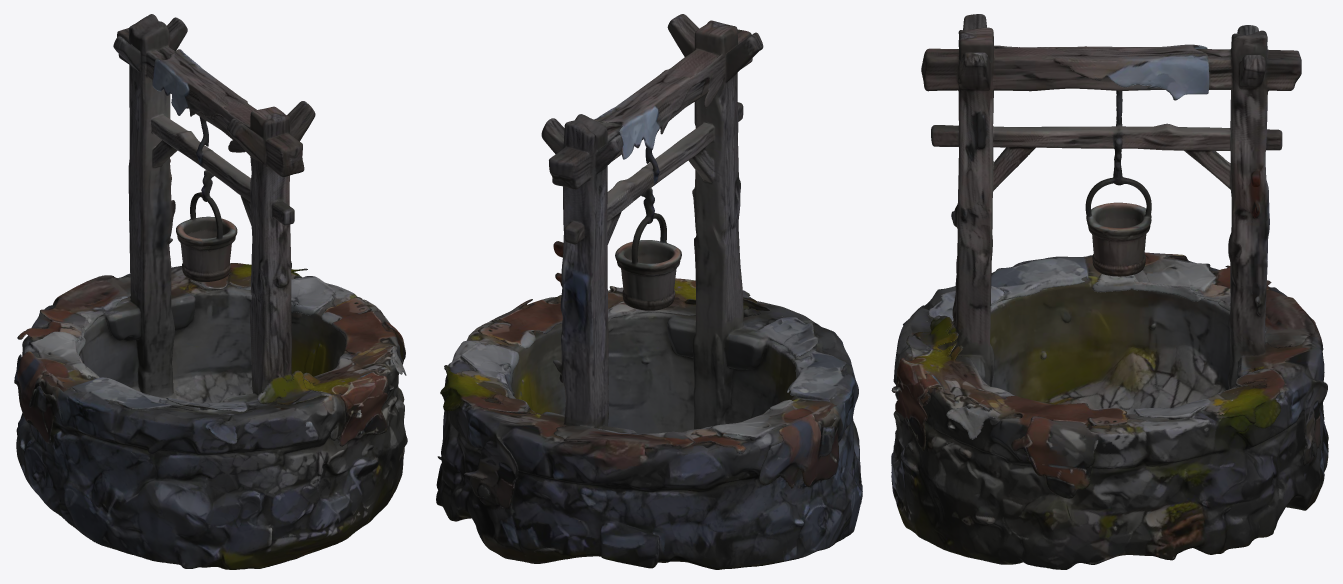
File: بئر_حجري.glb
3 views of the same model, side by side, from view 1: azimuth 30°, elevation 25°; view 2: azimuth 150°, elevation 25°; view 3: azimuth 270°, elevation 25° (orthographic). The views are drawn at different scales.
Parts seen in each view (by area): view 1: tripo_node_0a0e508b-2295-4b5b-a0a9-90b42327027f; view 2: tripo_node_0a0e508b-2295-4b5b-a0a9-90b42327027f; view 3: tripo_node_0a0e508b-2295-4b5b-a0a9-90b42327027f.
Part boxes in pixels (left/top/right/bottom): tripo_node_0a0e508b-2295-4b5b-a0a9-90b42327027f: left=14, top=14, right=407, bottom=569; tripo_node_0a0e508b-2295-4b5b-a0a9-90b42327027f: left=436, top=14, right=862, bottom=569; tripo_node_0a0e508b-2295-4b5b-a0a9-90b42327027f: left=891, top=14, right=1328, bottom=569.
Size of the model in its own units: 0.8408 by 1 by 0.8203.
1 material, 1 textured.
